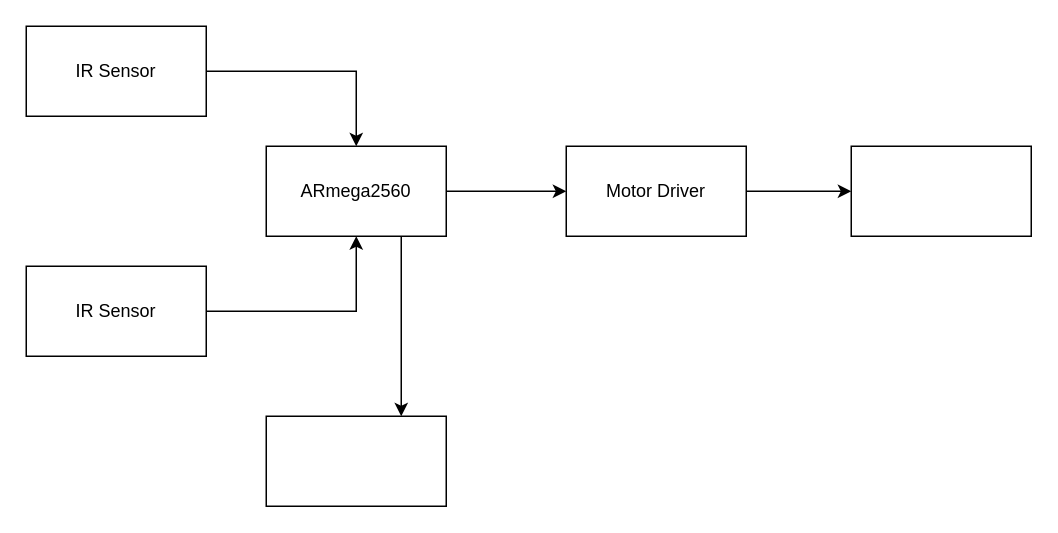
The diagram is 1058 pixels wide and 533 high, and some of its shapes have lost their labels. Here are the shapes that lost their labels. From the top down, the centre of each, then its label:
the point at 940,190: DC Motors
the point at 355,460: Control Algorithm
